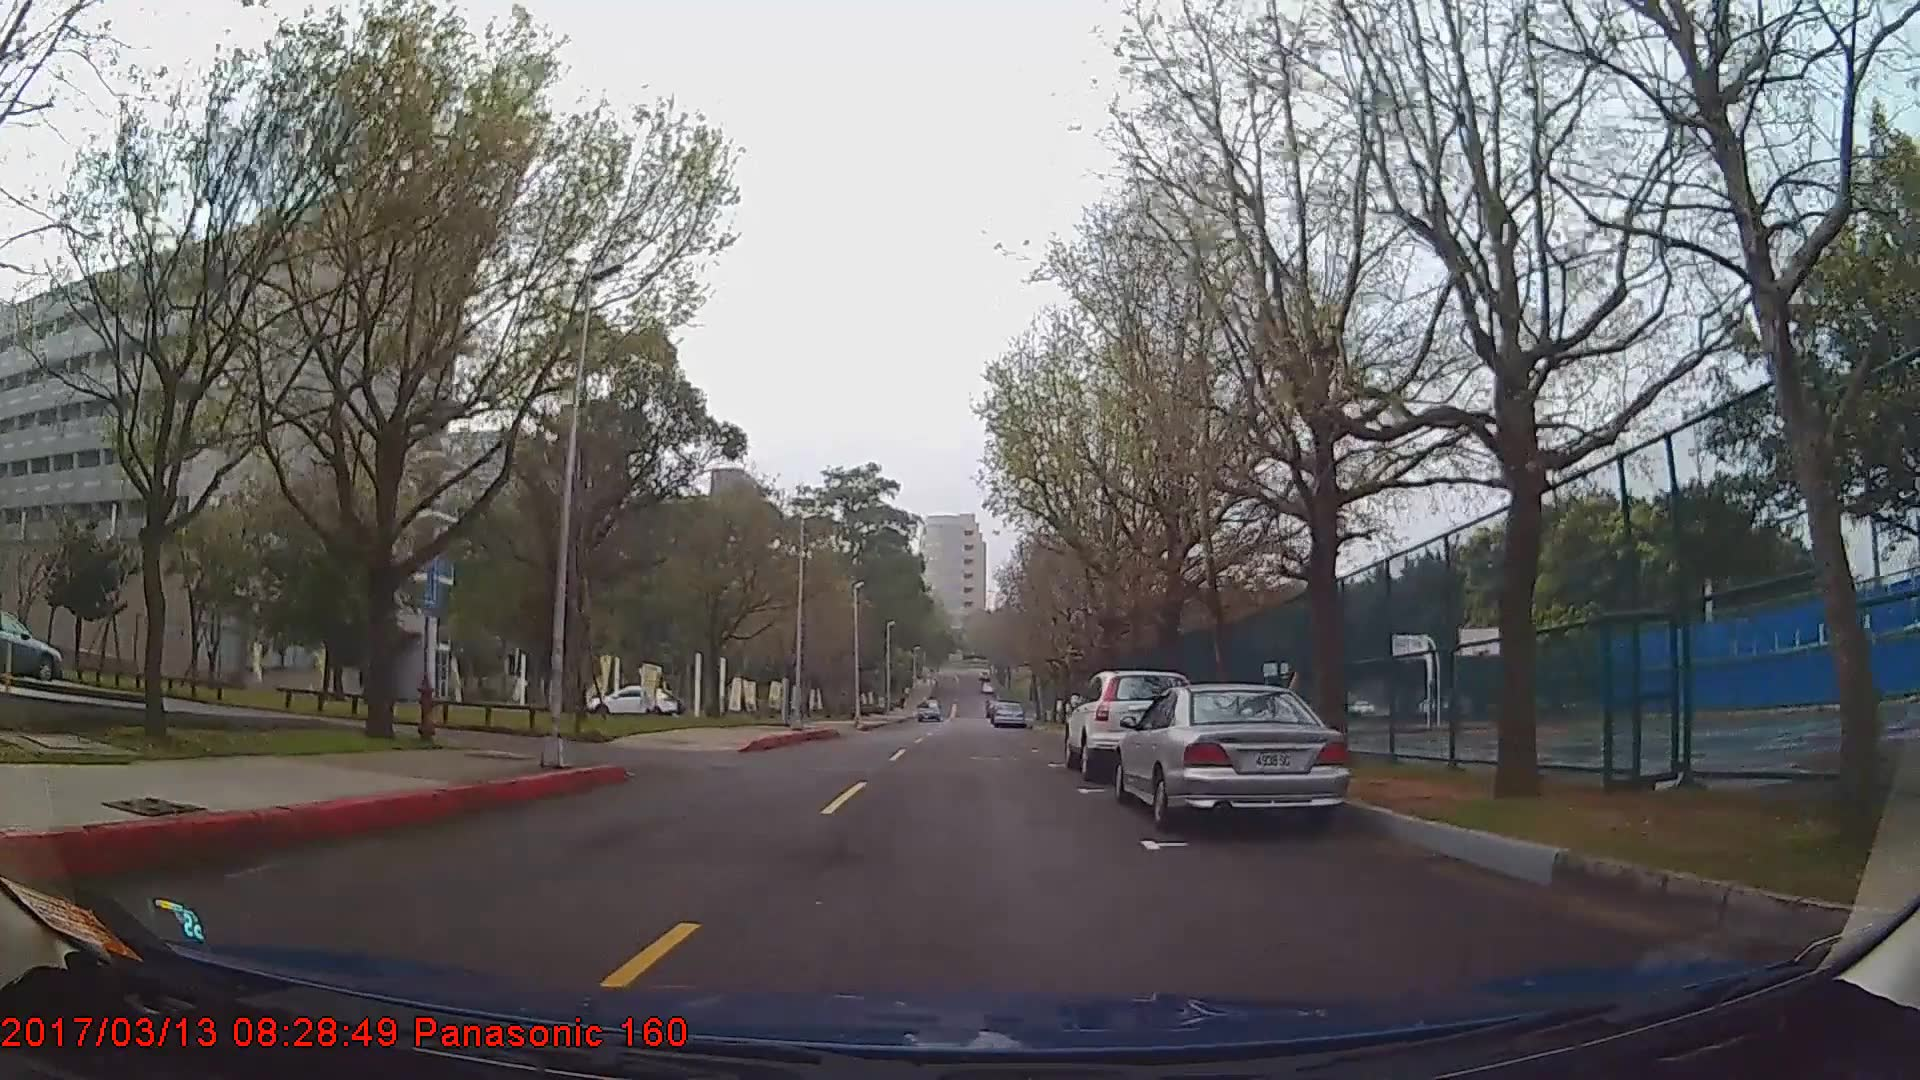vehicle: (1114, 682, 1349, 829), (1064, 669, 1193, 778), (0, 607, 61, 683), (587, 683, 680, 716), (990, 699, 1025, 727)
